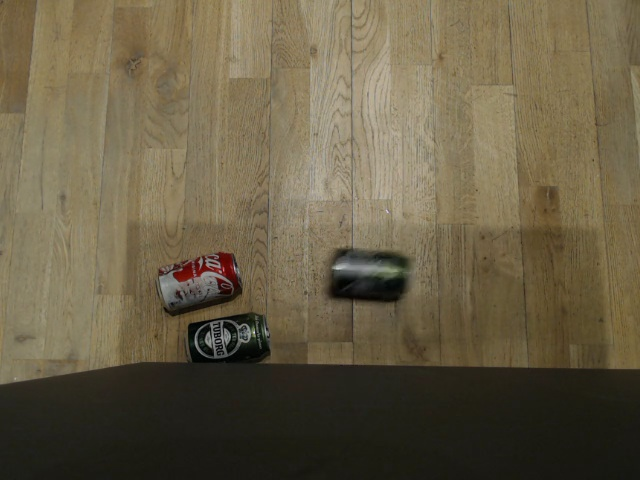beer: (320, 240, 419, 305), (178, 313, 267, 365)
cola: (150, 246, 242, 307)
